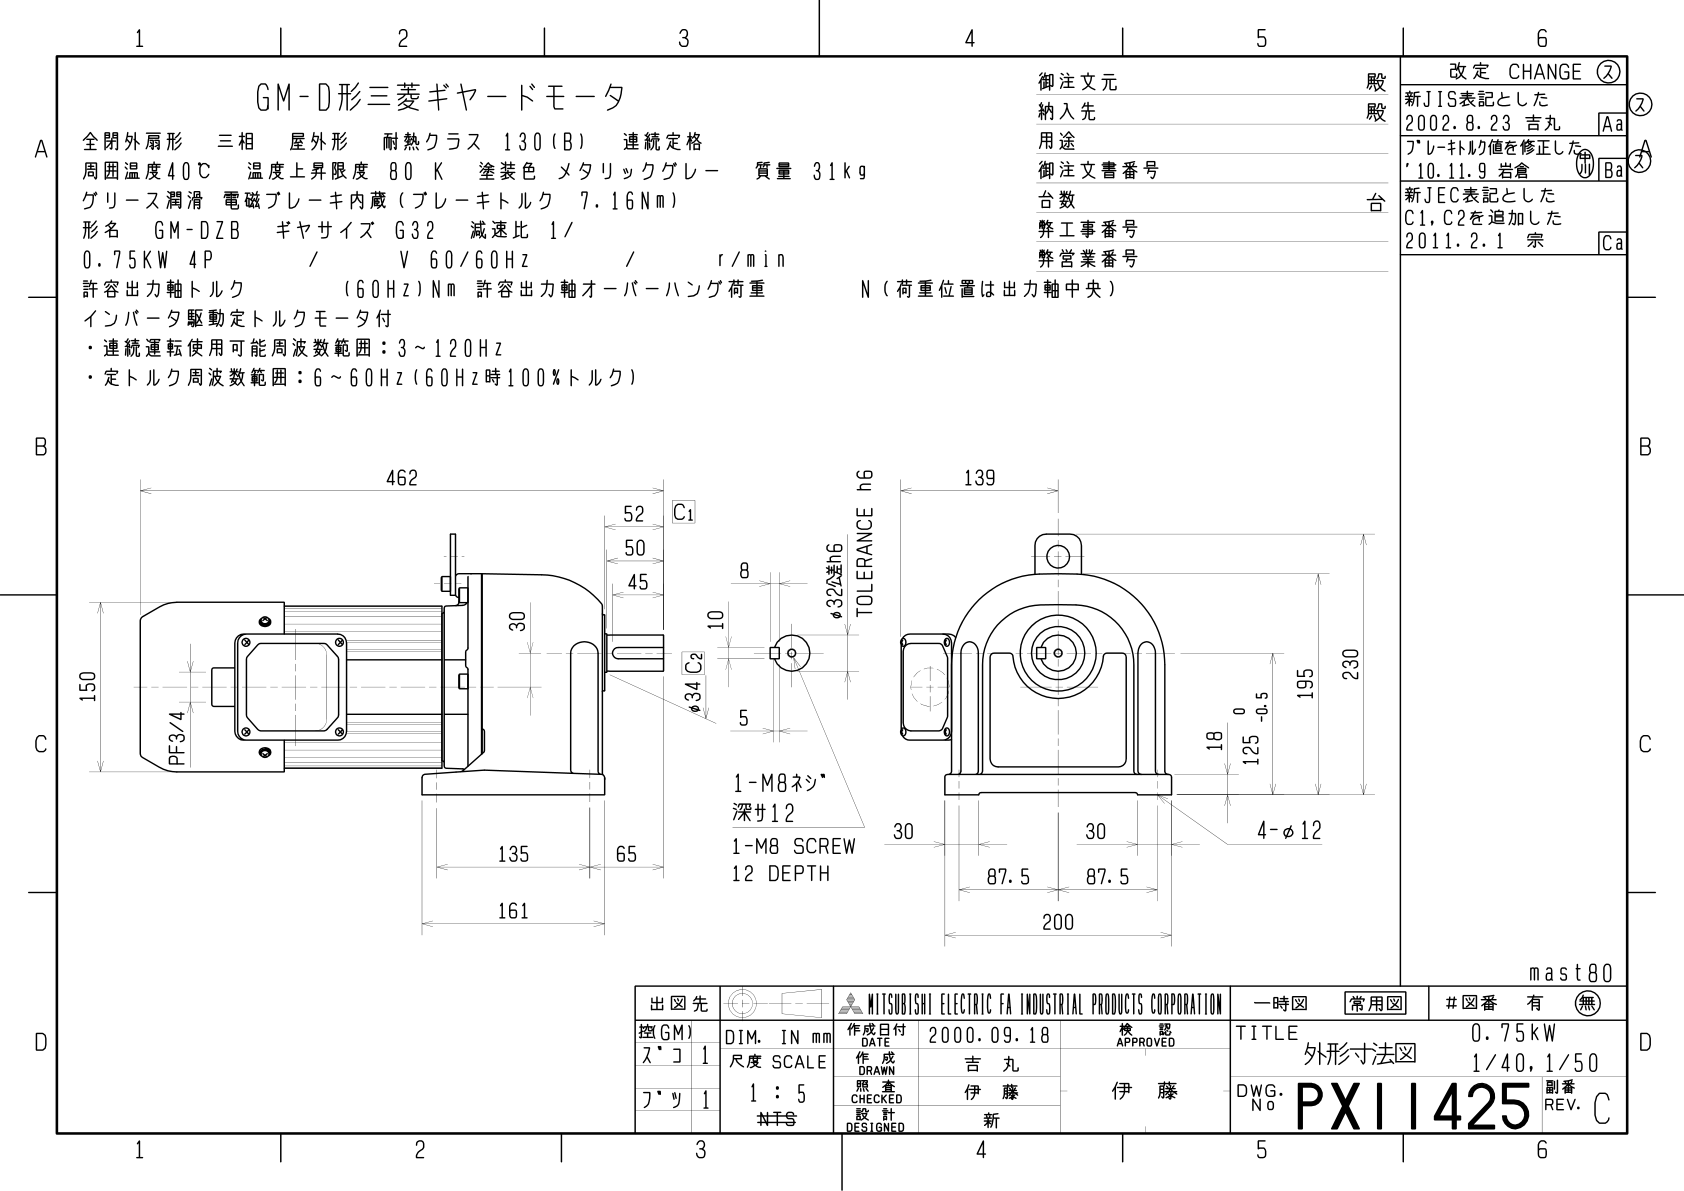GM_D_インバータ屋外_三相_脚: (1, 1, 1674, 1181)
